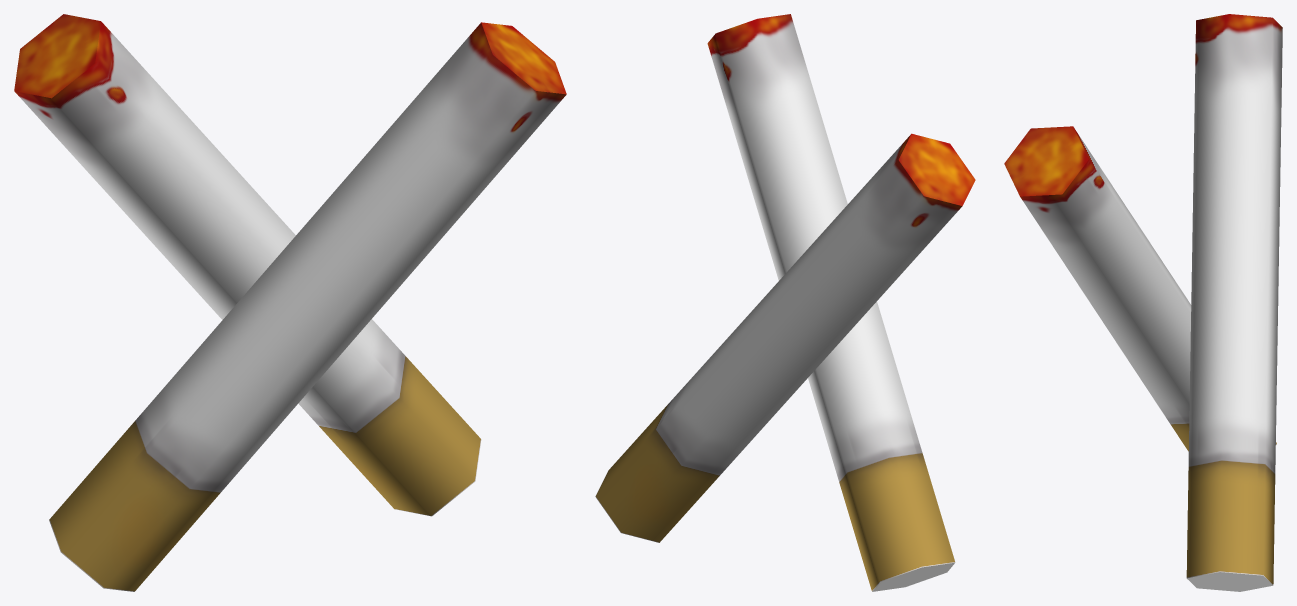
The model's file is Cigarettes.fbx.
3 renders of one model, left to right at view 1: azimuth 30°, elevation 25°; view 2: azimuth 150°, elevation 25°; view 3: azimuth 270°, elevation 25°, orthographic. The views are drawn at different scales.
Parts seen in each view (by area): view 1: Cigs; view 2: Cigs; view 3: Cigs.
Part boxes in pixels (x1=…): Cigs: x1=14, y1=14, x2=566, y2=591; Cigs: x1=595, y1=14, x2=975, y2=591; Cigs: x1=1004, y1=14, x2=1282, y2=591.
Size of the model in its own units: 128 by 154 by 84.78.
